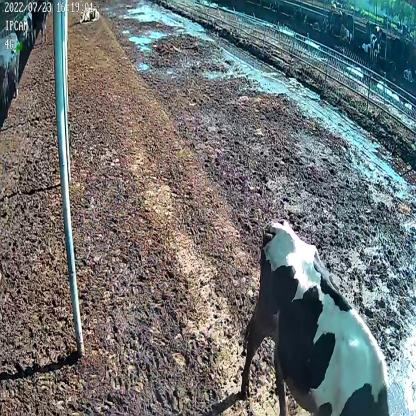cow: (249, 218, 392, 416), (79, 5, 101, 28)
